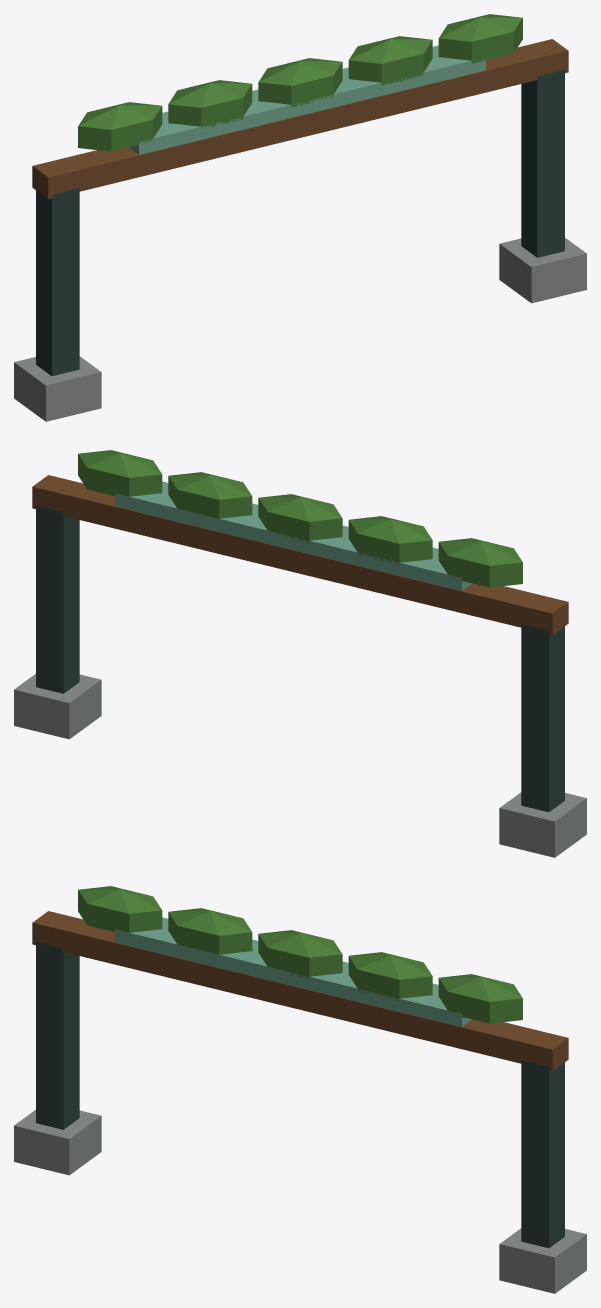
The model's file is ParkArch.obj.
The picture shows the model from 3 angles, top to bottom: view 1: azimuth 30°, elevation 25°; view 2: azimuth 150°, elevation 25°; view 3: azimuth 330°, elevation 25°; orthographic projection.
Visible parts, largest first — view 1: ParkArch; view 2: ParkArch; view 3: ParkArch.
Part boxes in pixels (box(x1,y1,x2,y2)): ParkArch: box(14, 14, 586, 421); ParkArch: box(14, 450, 586, 857); ParkArch: box(14, 886, 586, 1293).
Bounding box in the file's own units: 7.8 × 3.9 × 0.8.
Materials: 1 (1 with a texture image).
